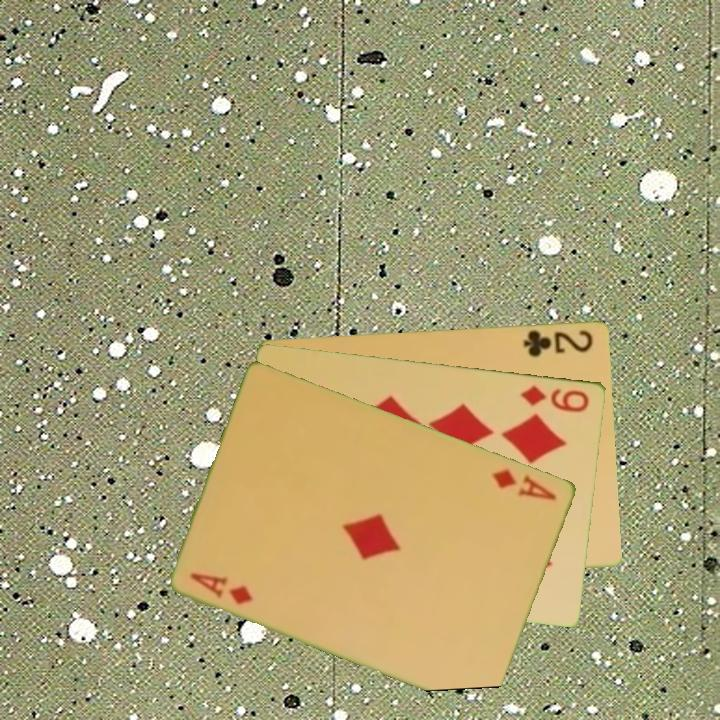2c: (520, 325, 596, 359)
9d: (517, 381, 592, 415)
Ad: (187, 568, 257, 608), (488, 465, 560, 503)
